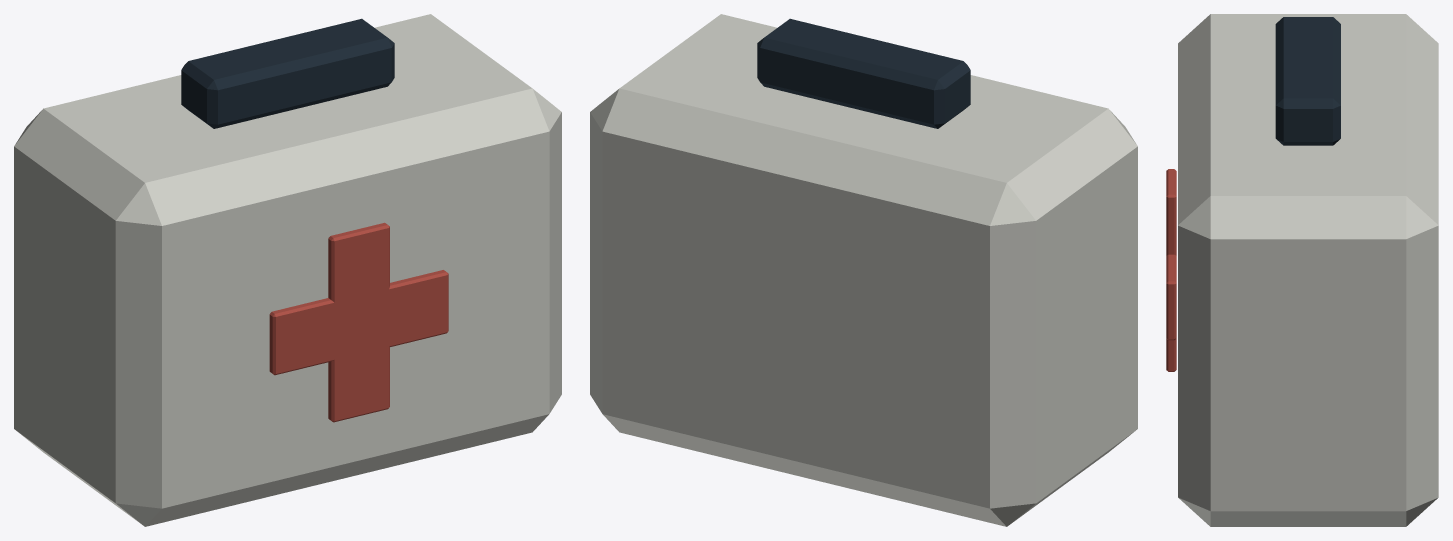
File: fps-medkit.lod0.glb
3 renders of one model, left to right at view 1: azimuth 30°, elevation 25°; view 2: azimuth 150°, elevation 25°; view 3: azimuth 270°, elevation 25°, orthographic. The views are drawn at different scales.
Visible parts, largest first — view 1: fps-medkit__body; view 2: fps-medkit__body; view 3: fps-medkit__body.
Part boxes in pixels (left/top/right/bottom): fps-medkit__body: left=14, top=14, right=561, bottom=526; fps-medkit__body: left=590, top=14, right=1137, bottom=526; fps-medkit__body: left=1166, top=14, right=1438, bottom=526.
Size of the model in its own units: 0.38 by 0.32 by 0.209.
